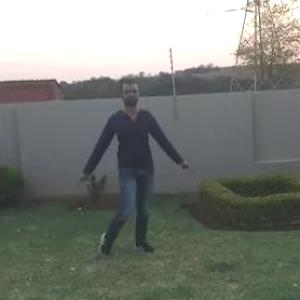land: (61, 69, 188, 281)
